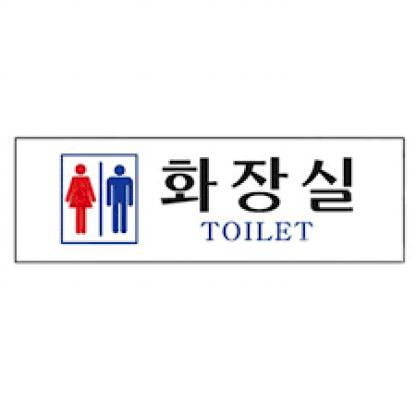toilet: (63, 157, 135, 239)
